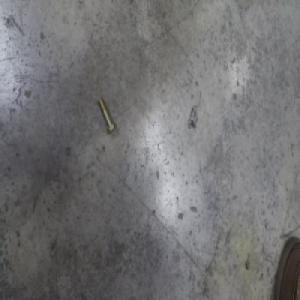Bolt: (97, 96, 116, 137)
